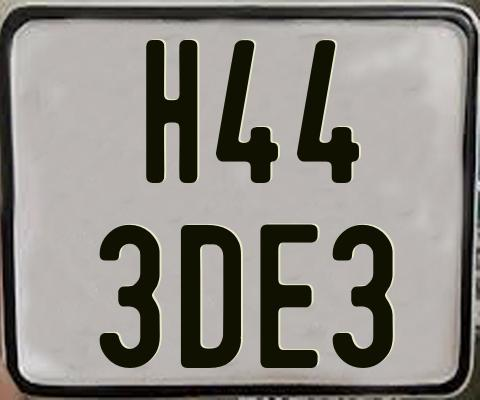3: (97, 225, 162, 374), (329, 225, 391, 372)
4: (214, 38, 282, 185), (294, 37, 361, 180)
D: (180, 222, 243, 367)
E: (257, 223, 319, 368)
H: (143, 38, 197, 186)
